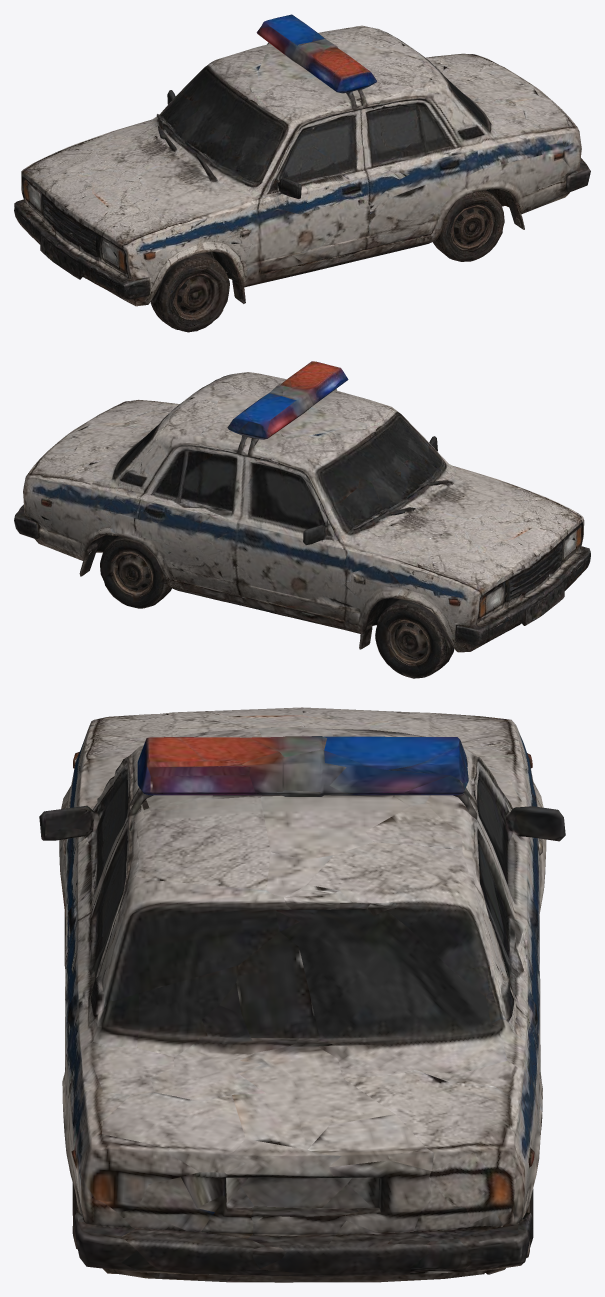
The model's file is patrol1.glb.
3 views of the same model, one above another, from view 1: azimuth 30°, elevation 25°; view 2: azimuth 150°, elevation 25°; view 3: azimuth 270°, elevation 25° (orthographic). The views are drawn at different scales.
Size of the model in its own units: 139 by 54.86 by 65.01.
Materials: 1 (1 with a texture image).
